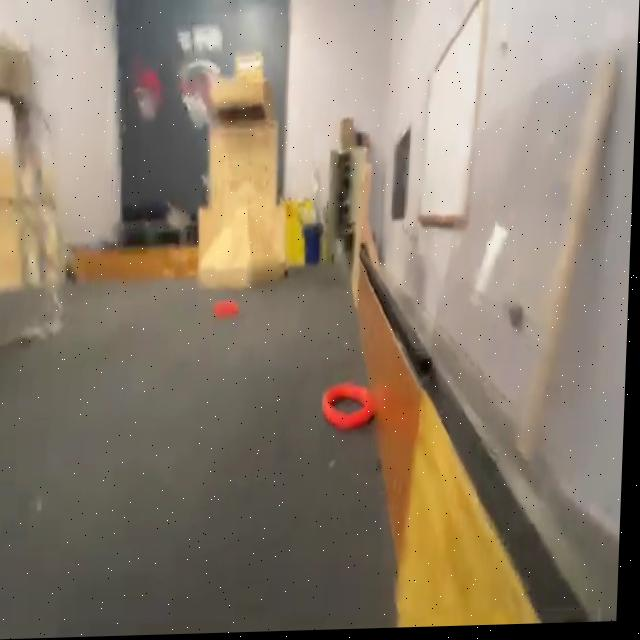note: (324, 385, 381, 434), (213, 302, 244, 322)
